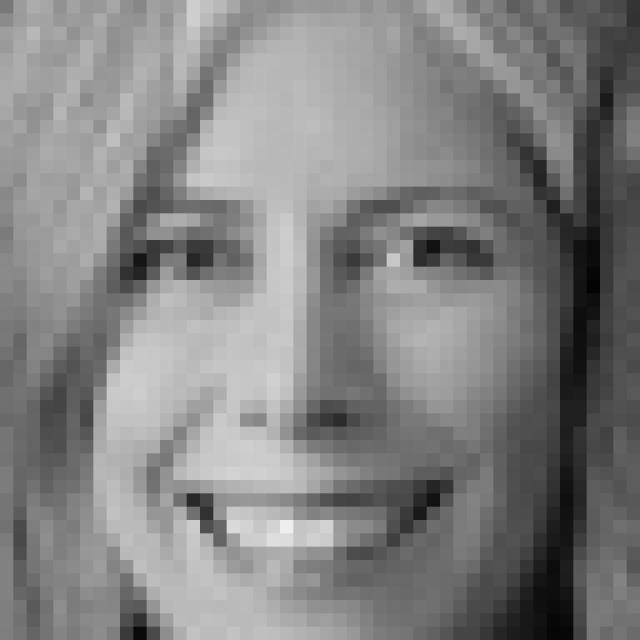happy: (110, 188, 525, 604)
